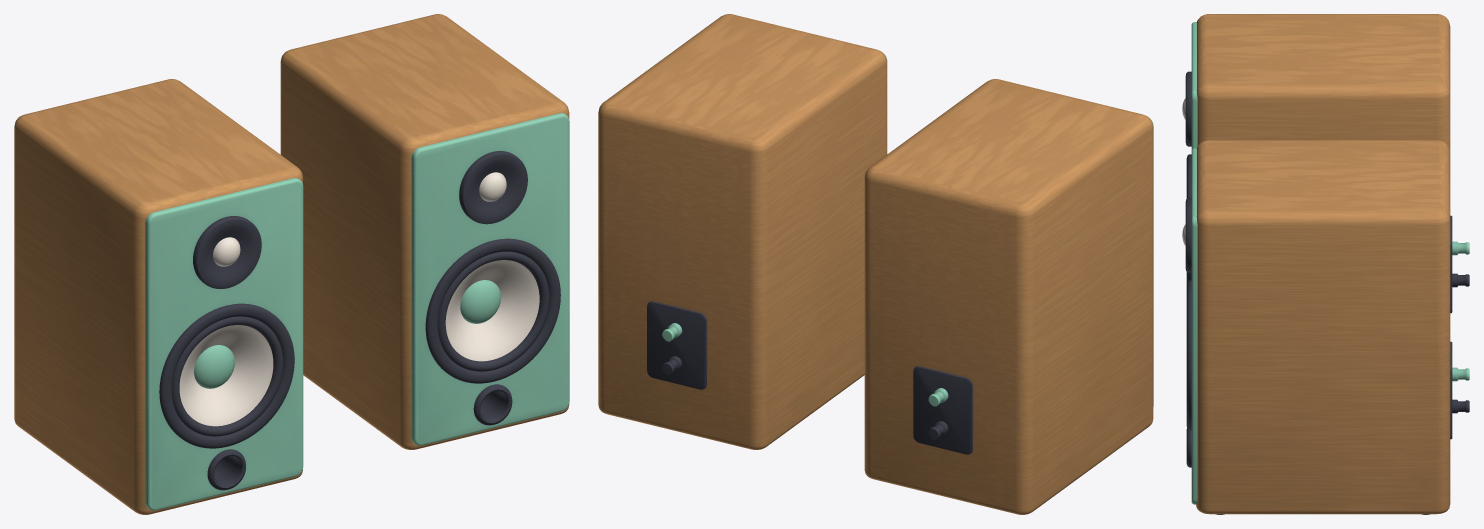
The model's file is speaker.glb.
3 renders of one model, left to right at view 1: azimuth 30°, elevation 25°; view 2: azimuth 150°, elevation 25°; view 3: azimuth 270°, elevation 25°, orthographic. The views are drawn at different scales.
Visible parts, largest first — view 1: speaker_left, speaker_right; view 2: speaker_left, speaker_right; view 3: speaker_right, speaker_left.
Boxes of the visible parts, left/top/right/bottom form: speaker_left: left=14, top=79, right=303, bottom=514; speaker_right: left=280, top=14, right=569, bottom=449; speaker_left: left=864, top=79, right=1153, bottom=514; speaker_right: left=598, top=14, right=887, bottom=449; speaker_right: left=1182, top=140, right=1469, bottom=514; speaker_left: left=1182, top=14, right=1469, bottom=313.
Bounding box in the file's own units: 0.44 × 0.304 × 0.2601.
2 materials, 2 textured.
